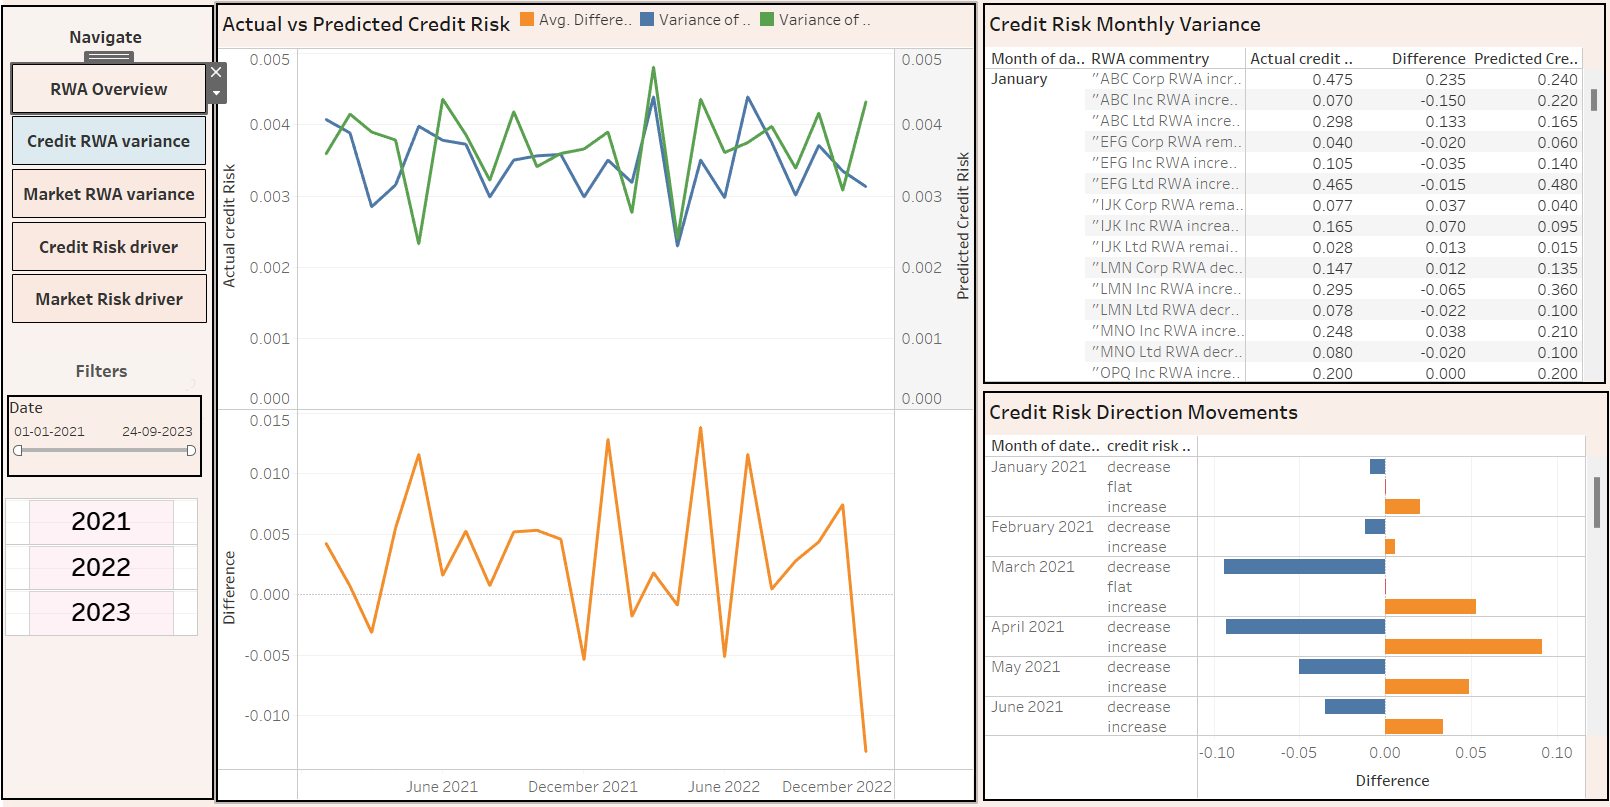

Layout of this report page (visuals, bound fields, positions):
{"tool":"tableau","page":{"name":"Credit RWA variance","canvas":[1000,1000],"units":"permille","ordinal":0},"visuals":[{"type":"worksheet","title":"Sheet 4","mark":"Automatic","rows":["Actual credit risk","Predicted_Credit_Risk","Difference"],"cols":["date (Sheet11)"],"box":[135,16.9,464.3,961.5]},{"type":"worksheet","title":"Sheet 6","mark":"Automatic","rows":["date (Sheet11)","RWA commentry"],"box":[603.5,16.9,380.6,458.5]},{"type":"legend","title":"Sheet 4","param":"[federated.1azpbkn1w87z051a0ipd91t5uy5k].[:Measure Names]","box":[318.9,24.1,271.2,42.1]},{"type":"text","box":[7.9,31.3,119.1,50.5]},{"type":"dashboard-object","box":[10.4,90.2,118.5,59]},{"type":"dashboard-object","box":[10.4,152.8,118.5,59]},{"type":"dashboard-object","box":[10.4,216.6,118.5,59]},{"type":"dashboard-object","box":[10.4,280.4,118.5,59]},{"type":"dashboard-object","box":[10.4,343,119.1,59]},{"type":"text","box":[10.4,436.8,109.4,44.5]},{"type":"worksheet","title":"Sheet 7","mark":"Bar","rows":["date (Sheet11)","Calculation_1965539822583054336"],"cols":["Difference"],"box":[603.5,483.8,382.4,493.4]},{"type":"filter","title":"Sheet 4","param":"[federated.1azpbkn1w87z051a0ipd91t5uy5k].[none:date:qk]","box":[7.3,488.3,119.4,98.6]},{"type":"worksheet","title":"Sheet 15","mark":"Bar","rows":["date","Calculation_119063975733788675"],"box":[6.1,612.7,118.2,165.5]}]}

Visuals, with their boxes on the dashboard's canvas, which has no fixed pixel size, in thousandths of its width and height (x1, y1, x2, y2). These are canvas units, not pixel positions in the 1610x807 screenshot, which may show the page scaled, cropped or inside an application window:
"Sheet 4" worksheet: l=135, t=17, r=599, b=978
"Sheet 6" worksheet: l=604, t=17, r=984, b=475
"Sheet 4" legend: l=319, t=24, r=590, b=66
text: l=8, t=31, r=127, b=82
dashboard-object: l=10, t=90, r=129, b=149
dashboard-object: l=10, t=153, r=129, b=212
dashboard-object: l=10, t=217, r=129, b=276
dashboard-object: l=10, t=280, r=129, b=339
dashboard-object: l=10, t=343, r=130, b=402
text: l=10, t=437, r=120, b=481
"Sheet 7" worksheet (Bar marks): l=604, t=484, r=986, b=977
"Sheet 4" filter: l=7, t=488, r=127, b=587
"Sheet 15" worksheet (Bar marks): l=6, t=613, r=124, b=778
